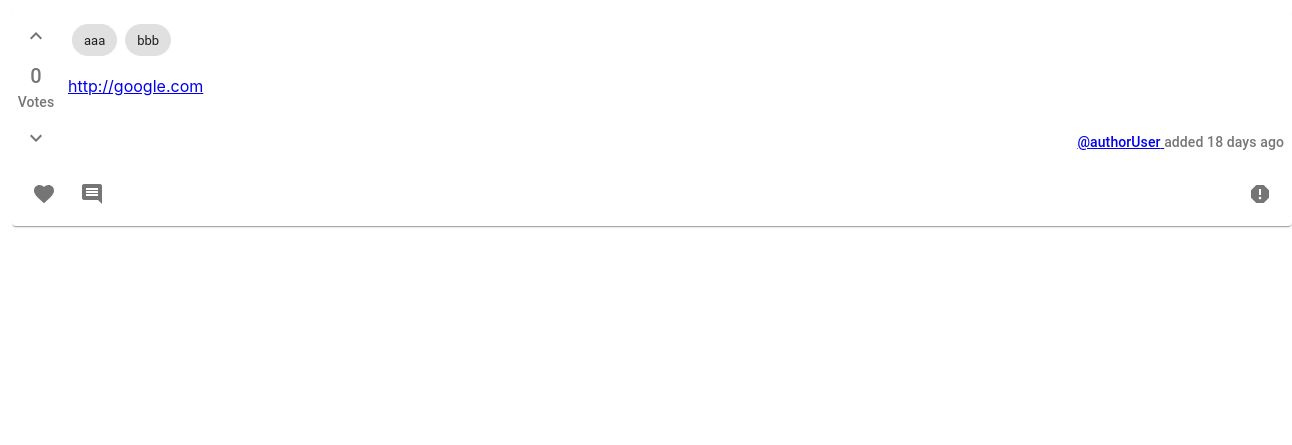
Test: ArticleCard › normal user click comment icon
The image size is (1292, 445).
Click the button with test id "article-card-comment-icon-button": (92, 194) [68,170,116,218]
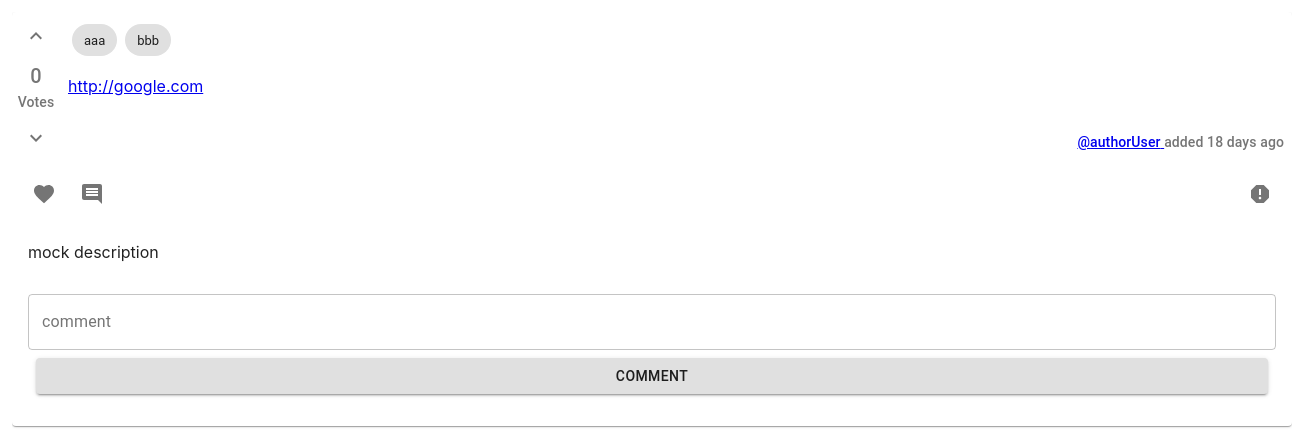
Result: the text with test id "article-card-description" reads "mock description" at [28,242,159,262]
Result: the element with test id "article-card-comments" is shown at [12,278,1291,426]
